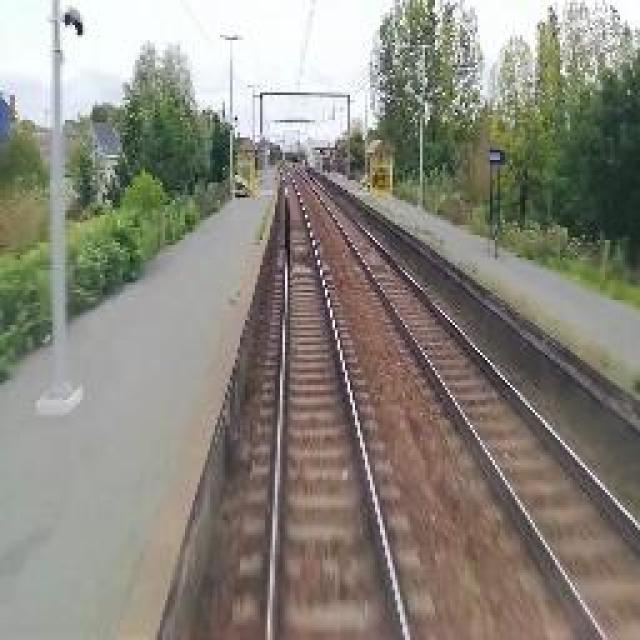rail: (231, 163, 440, 640)
